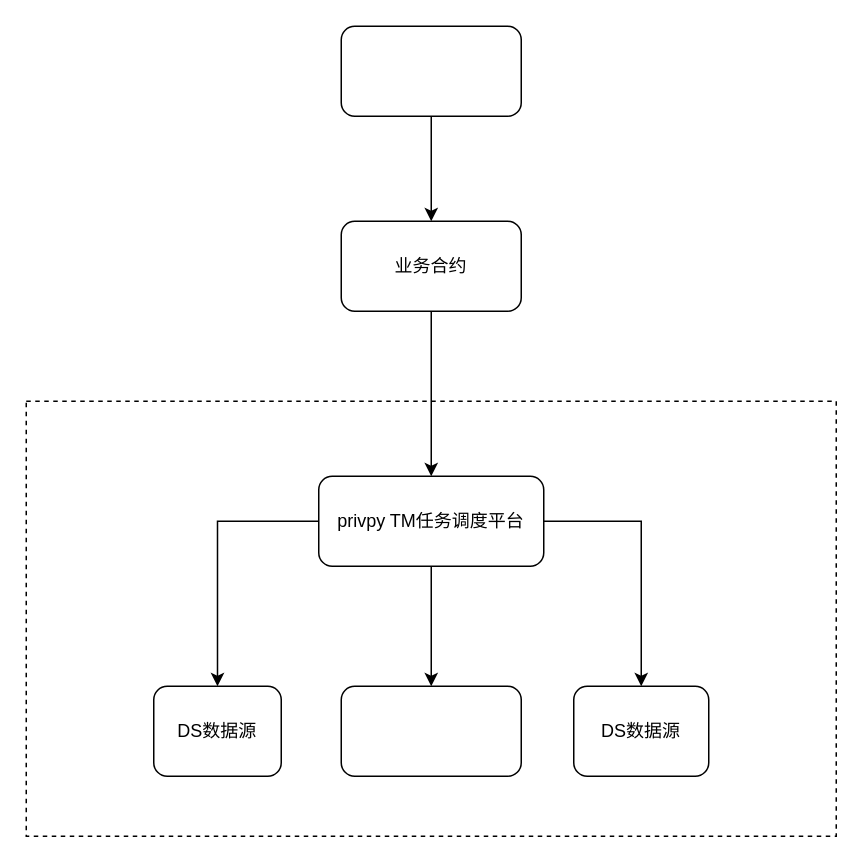
Image size: 863x863. Some labels were removed from this diagram. Here are the shapes that lost their labels. From the top down, the box of each, then its label:
(340, 25, 521, 116): 可信平台门户
(340, 685, 521, 776): ES计算集群资源
